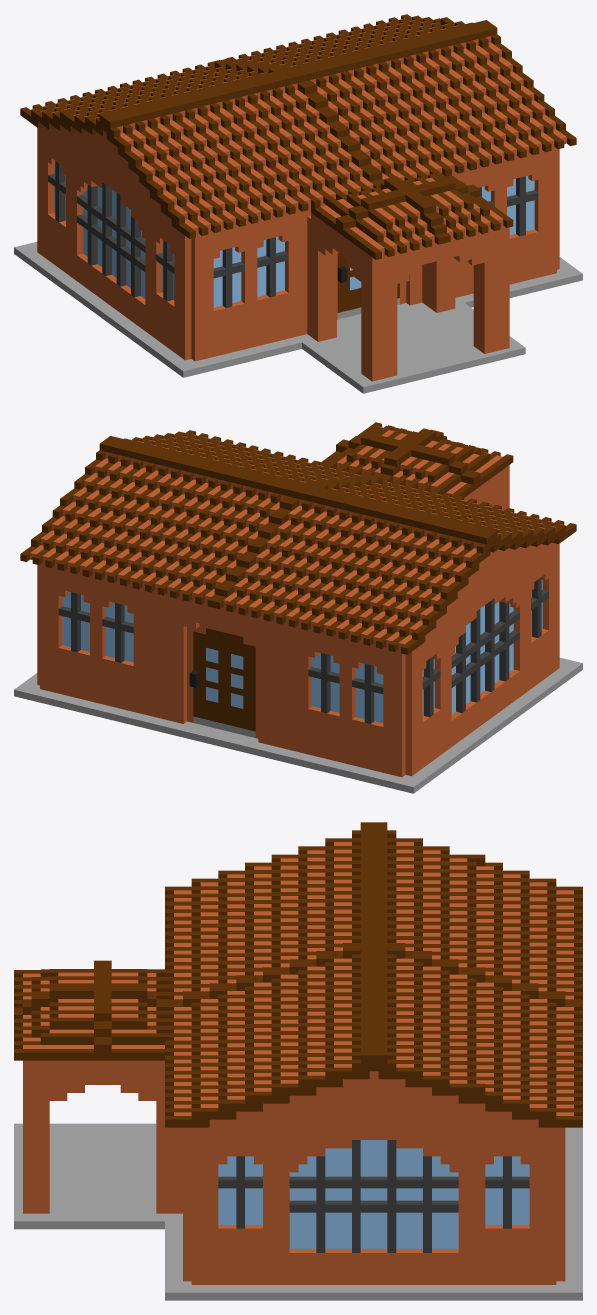
The model's file is obj_house5b.obj.
3 renders of one model, top to bottom at view 1: azimuth 30°, elevation 25°; view 2: azimuth 150°, elevation 25°; view 3: azimuth 270°, elevation 25°, orthographic. The views are drawn at different scales.
Bounding box in the file's own units: 6.4 × 3 × 6.4.
1 material, 1 textured.
